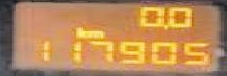-: (160, 22, 167, 29)
0: (147, 39, 176, 63), (136, 3, 162, 27), (165, 6, 194, 27)
1: (69, 39, 85, 63), (38, 37, 51, 62)
5: (178, 41, 207, 65)
7: (87, 38, 111, 62)
9: (116, 39, 145, 63)
X: (71, 24, 85, 38), (85, 28, 103, 37)
